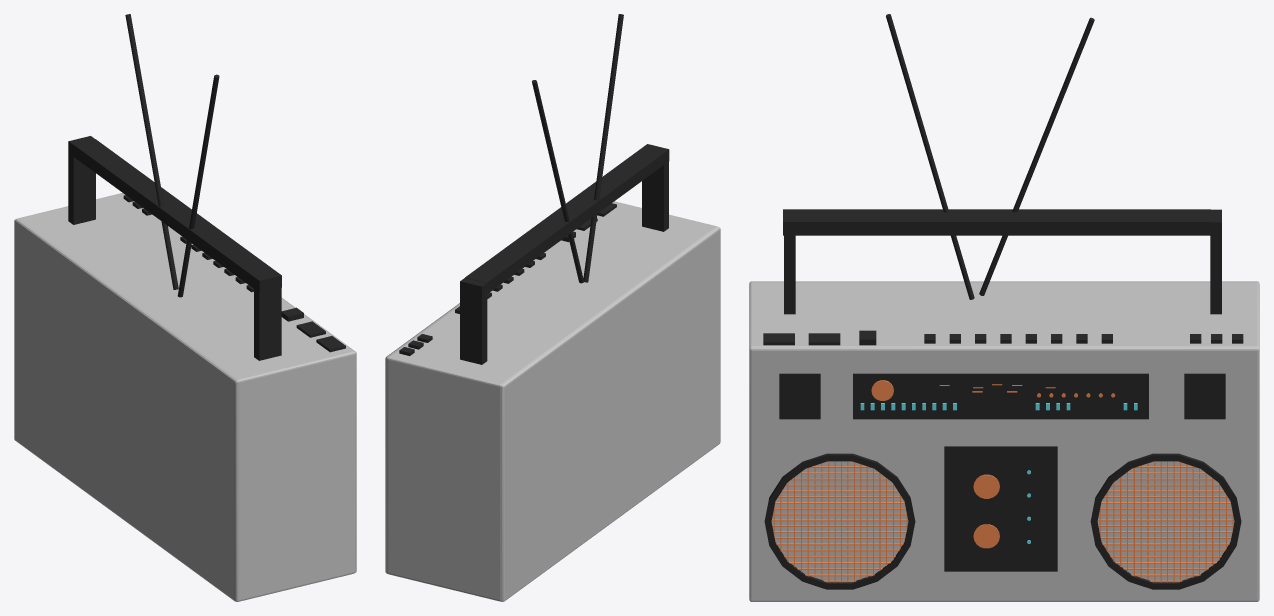
File: az2GQvMKWr4.glb
3 renders of one model, left to right at view 1: azimuth 30°, elevation 25°; view 2: azimuth 150°, elevation 25°; view 3: azimuth 270°, elevation 25°, orthographic. The views are drawn at different scales.
Parts seen in each view (by area): view 1: Box20351, Box20309; view 2: Box20351, Box20309; view 3: Box20351, Box20309, Box20308.
Boxes of the visible parts, <box> form: Box20351: <box>14,193,356,601</box>; Box20309: <box>68,14,345,360</box>; Box20351: <box>385,201,720,601</box>; Box20309: <box>399,14,669,364</box>; Box20351: <box>749,281,1259,601</box>; Box20309: <box>763,14,1243,589</box>; Box20308: <box>771,380,1237,582</box>.
Bounding box in the file's own units: 0.277 × 1 × 0.8514.
